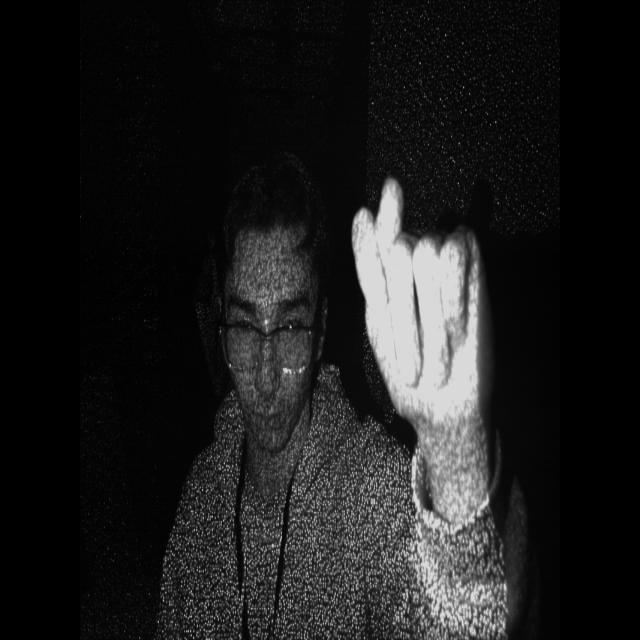T: (332, 148, 509, 426)
